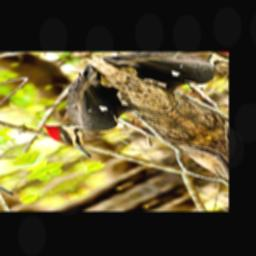Woodpecker: (4, 64, 172, 161)
